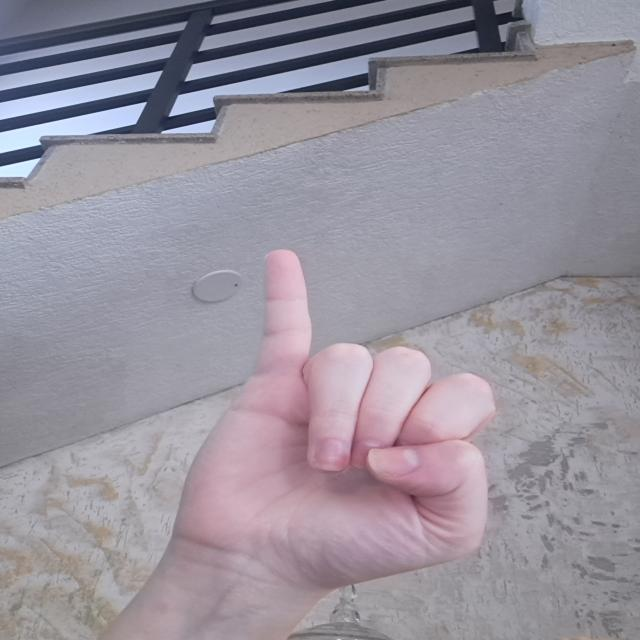I: (157, 245, 512, 596)
